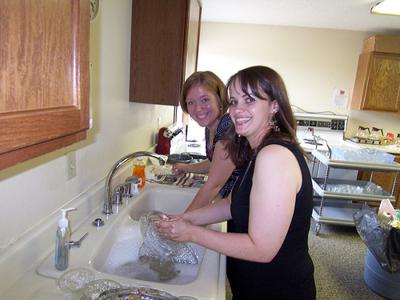person: (152, 63, 320, 300)
